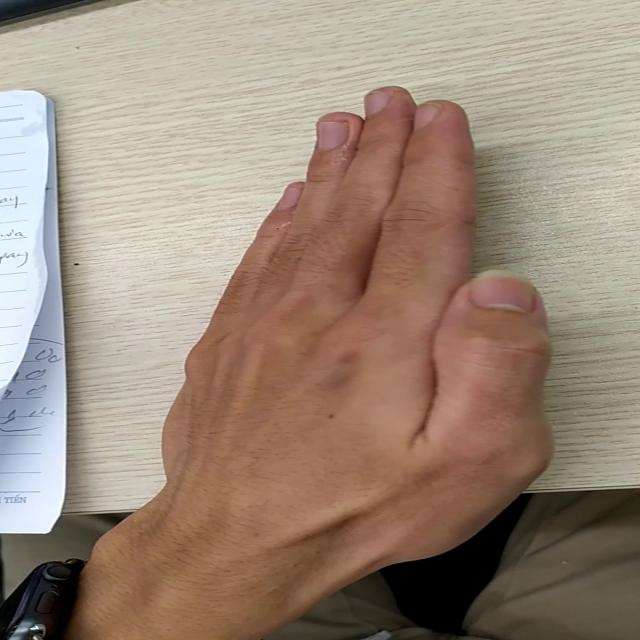hand: (208, 92, 561, 555)
